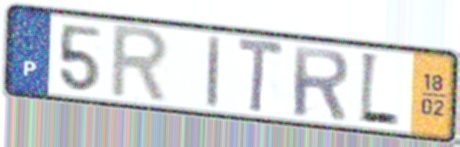5: (57, 22, 105, 93)
I: (204, 33, 223, 112)
L: (357, 48, 402, 131)
R: (106, 22, 173, 107), (289, 42, 352, 122)
T: (235, 34, 287, 116)
